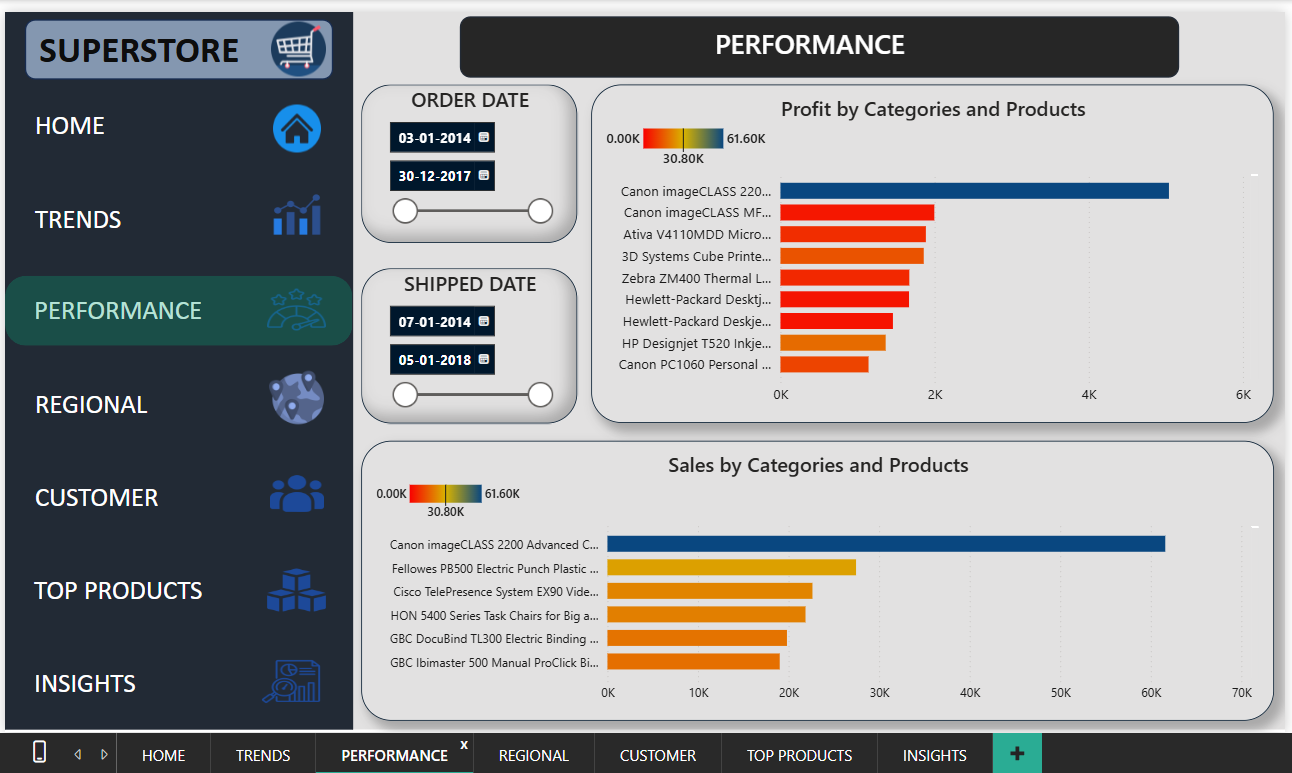

What the dashboard file says about the page in this screenshot:
{"tool":"powerbi","page":{"name":"PERFORMANCE","canvas":[1280,720],"ordinal":2},"visuals":[{"type":"clusteredBarChart","title":"Sales by Categories and Products","fields":{"Category":["Sample - Superstore.Product Name","Sample - Superstore.Category"],"Y":["Sum(Sample - Superstore.Sales)"]},"box":[355.8,428.2,912.9,279.8],"z":0},{"type":"slicer","title":"ORDER DATE","fields":{"Values":["Sample - Superstore.Order Date"]},"box":[356.2,72.5,216.2,158.8],"z":2},{"type":"slicer","title":"SHIPPED DATE","fields":{"Values":["Sample - Superstore.Ship Date"]},"box":[356.2,256.2,216.2,155],"z":3},{"type":"barChart","title":"Profit by Categories and Products","fields":{"Category":["Sample - Superstore.Product Name","Sample - Superstore.Category"],"Y":["Avg(Sample - Superstore.Profit)"]},"box":[586.2,72.5,682.5,338.8],"z":4},{"type":"textbox","box":[705,8.8,215,52.5],"z":5},{"type":"shape","box":[0,263.8,347.5,70],"z":6},{"type":"actionButton","box":[0,82.5,347.5,70],"z":7},{"type":"actionButton","box":[0,172.5,347.5,70],"z":8},{"type":"actionButton","box":[0,358.8,347.5,70],"z":9},{"type":"actionButton","box":[0,448.8,347.5,70],"z":10},{"type":"actionButton","box":[0,543.8,347.5,70],"z":11},{"type":"actionButton","box":[0,638.8,347.5,70],"z":12}]}

Visuals, with their boxes on the page's 1280x720 design canvas (x1, y1, x2, y2). These are canvas units, not pixel positions in the 1292x773 screenshot, which may show the page scaled, cropped or inside an application window:
"Sales by Categories and Products" clusteredBarChart: x1=356, y1=428, x2=1269, y2=708
"ORDER DATE" slicer: x1=356, y1=72, x2=572, y2=231
"SHIPPED DATE" slicer: x1=356, y1=256, x2=572, y2=411
"Profit by Categories and Products" barChart: x1=586, y1=72, x2=1269, y2=411
textbox: x1=705, y1=9, x2=920, y2=61
shape: x1=0, y1=264, x2=348, y2=334
actionButton: x1=0, y1=82, x2=348, y2=152
actionButton: x1=0, y1=172, x2=348, y2=242
actionButton: x1=0, y1=359, x2=348, y2=429
actionButton: x1=0, y1=449, x2=348, y2=519
actionButton: x1=0, y1=544, x2=348, y2=614
actionButton: x1=0, y1=639, x2=348, y2=709
